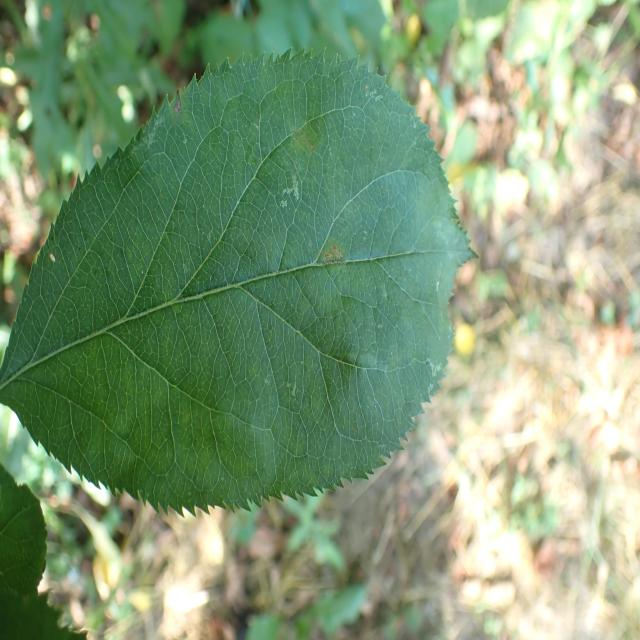scab: (298, 215, 372, 288), (284, 108, 328, 184)
